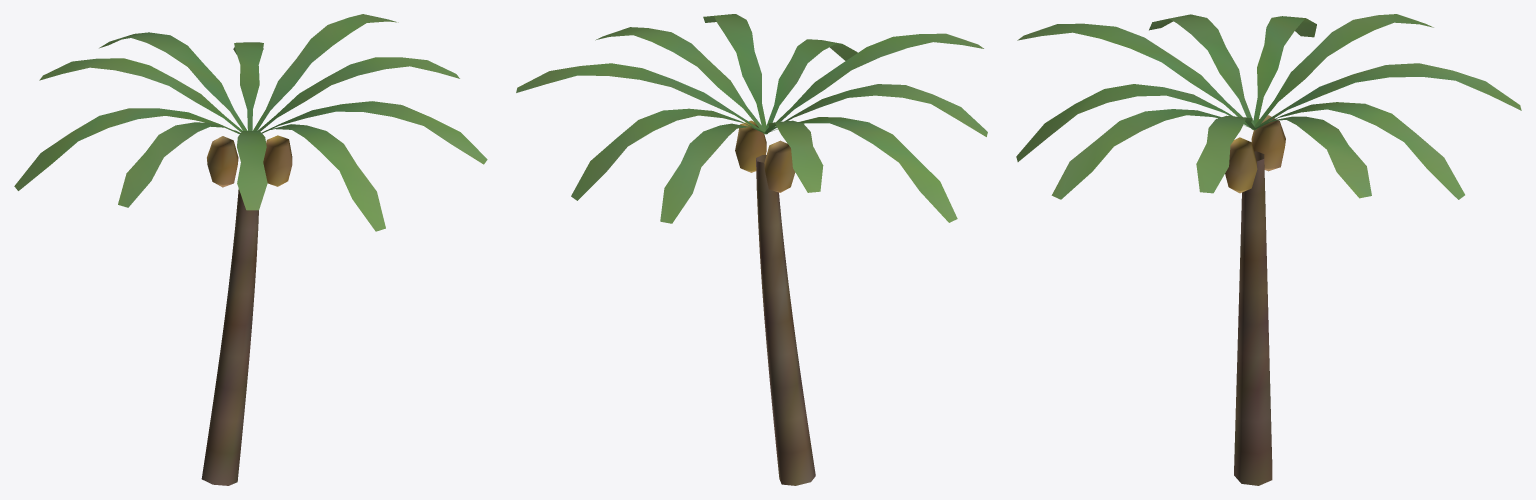
File: palm.glb
3 renders of one model, left to right at view 1: azimuth 30°, elevation 25°; view 2: azimuth 150°, elevation 25°; view 3: azimuth 270°, elevation 25°, orthographic. The views are drawn at different scales.
Size of the model in its own units: 4.29 by 3.94 by 4.24.
